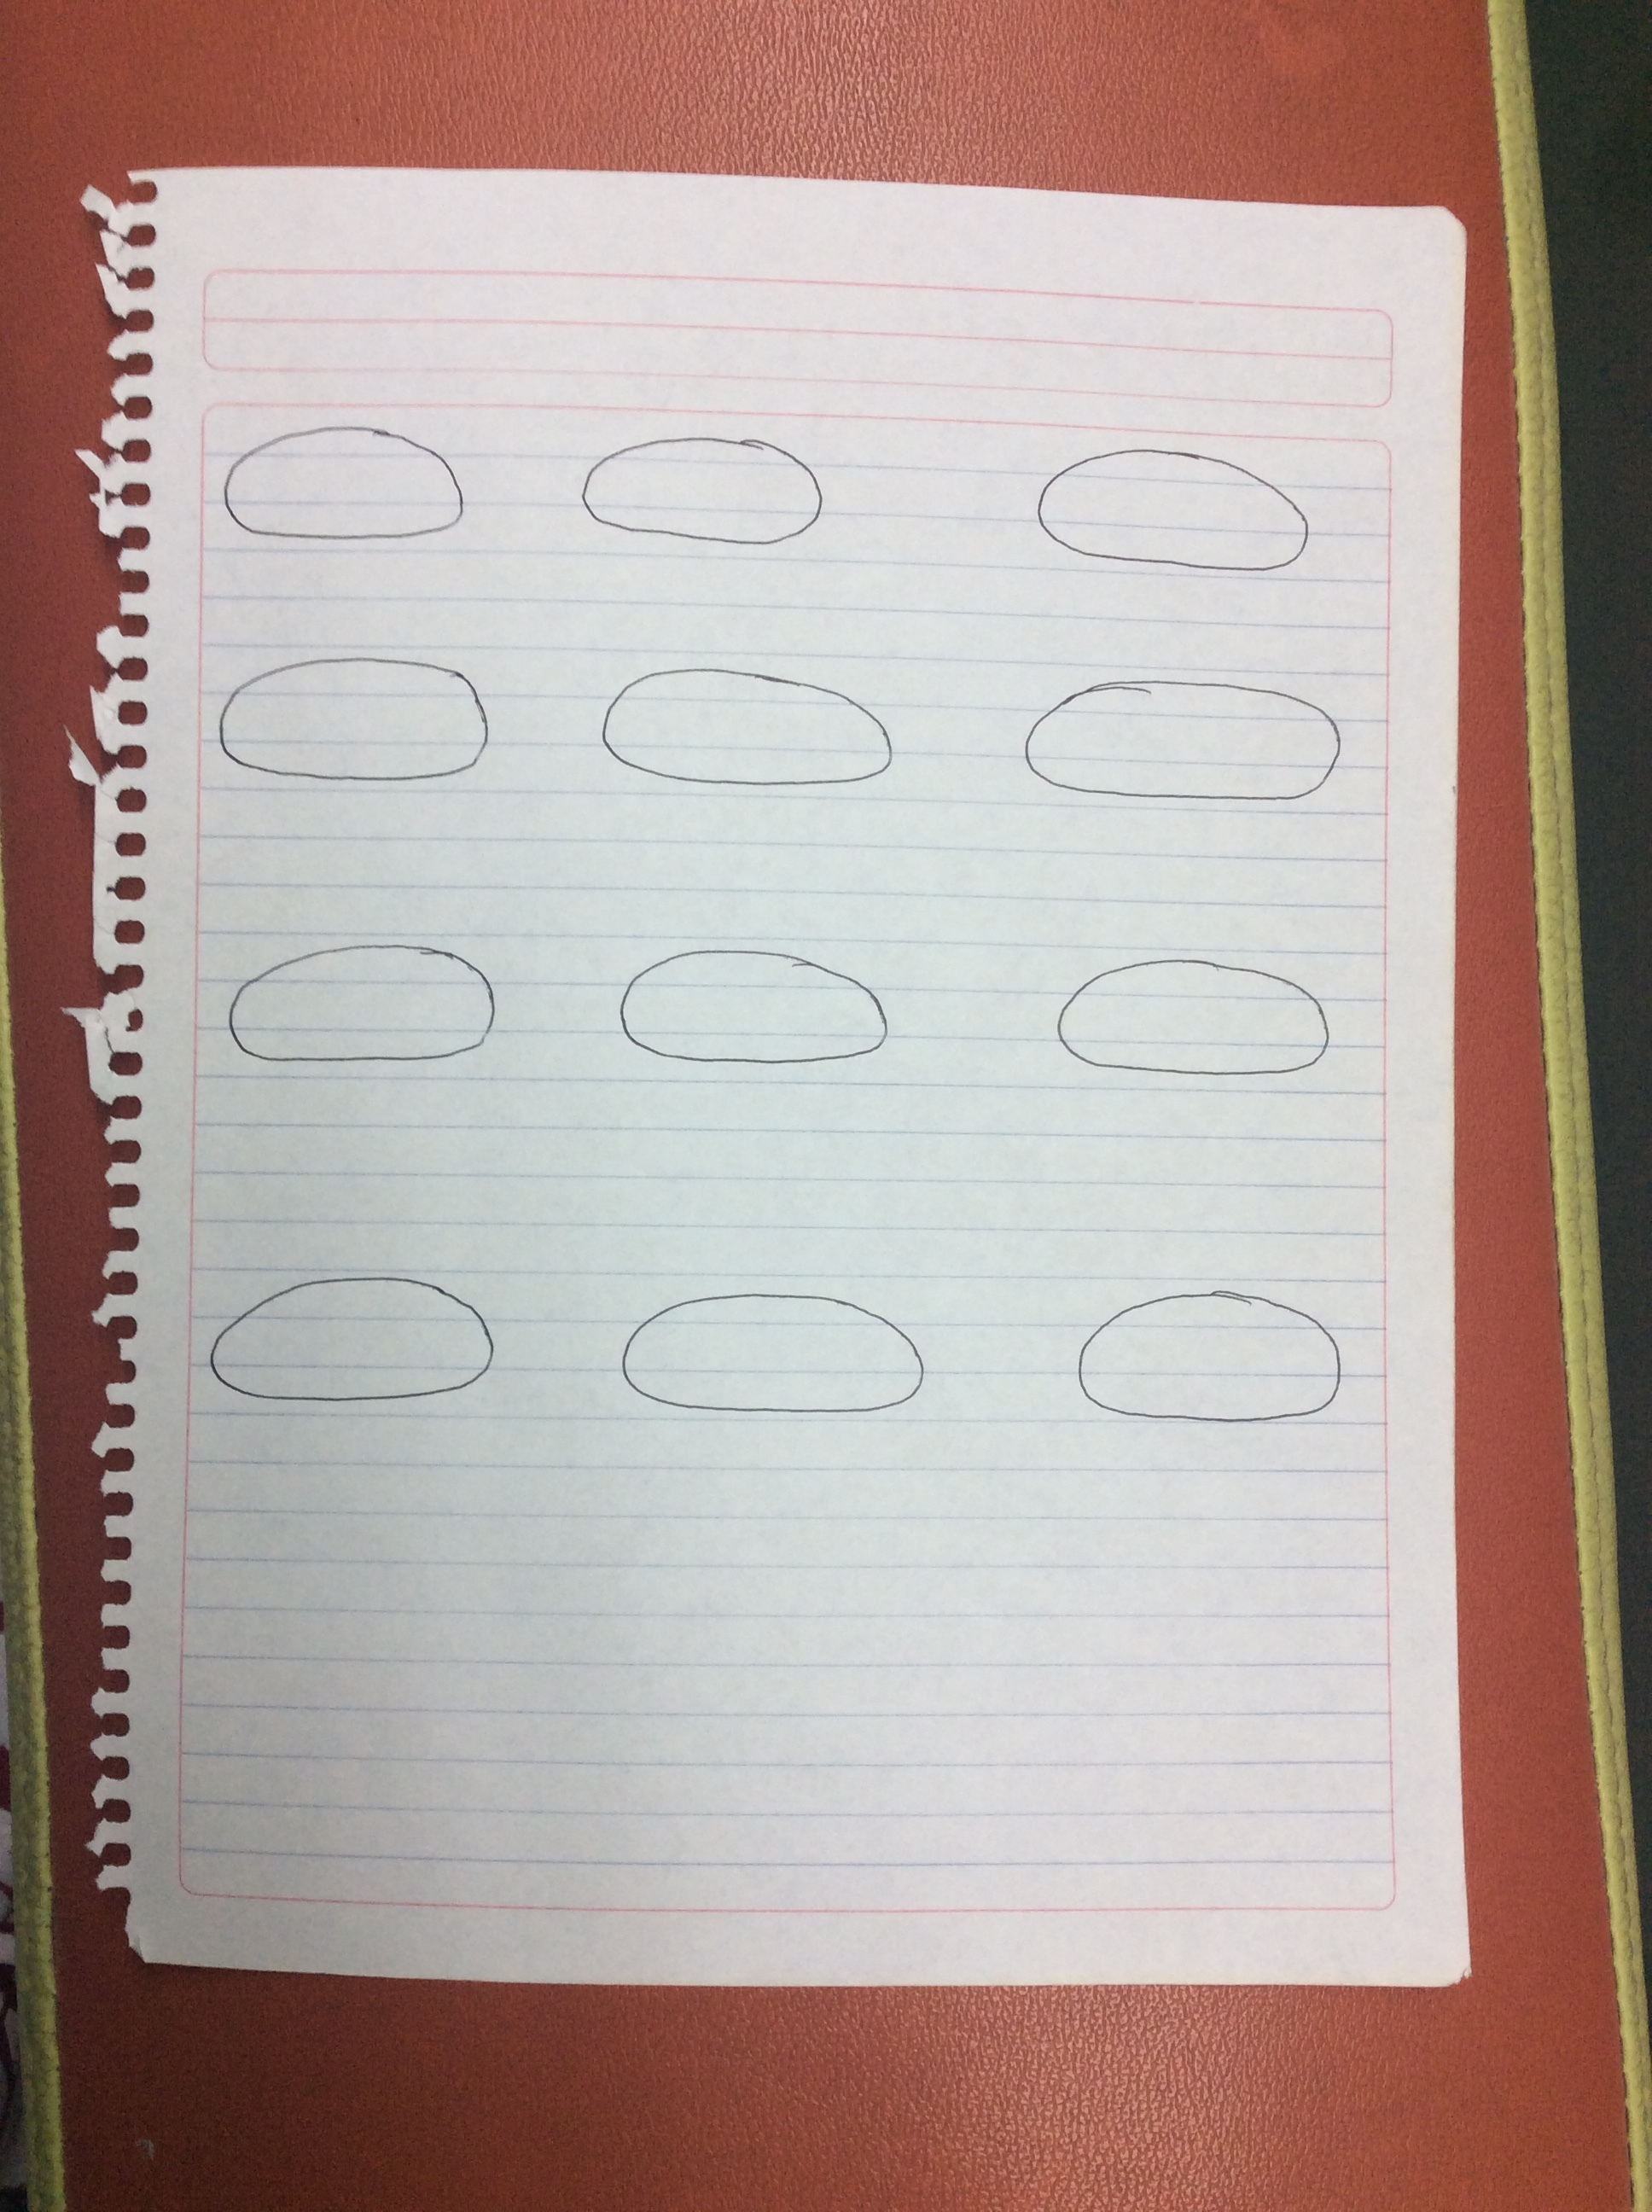start_end: (578, 1260, 951, 1443), (998, 656, 1364, 836), (592, 907, 916, 1103), (1036, 925, 1371, 1112), (189, 1235, 510, 1430), (1036, 1270, 1367, 1454), (1012, 413, 1340, 597), (581, 645, 916, 822), (203, 918, 521, 1090), (200, 638, 510, 805), (566, 409, 862, 571), (203, 402, 475, 571)
